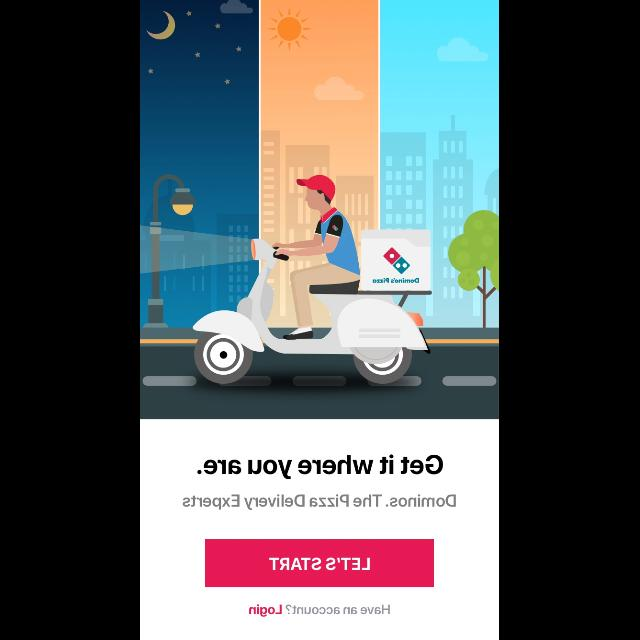image: (140, 1, 500, 419)
text: (198, 454, 444, 480), (183, 494, 457, 510), (286, 604, 390, 614), (250, 604, 282, 618)
textbutton: (206, 540, 434, 586)
